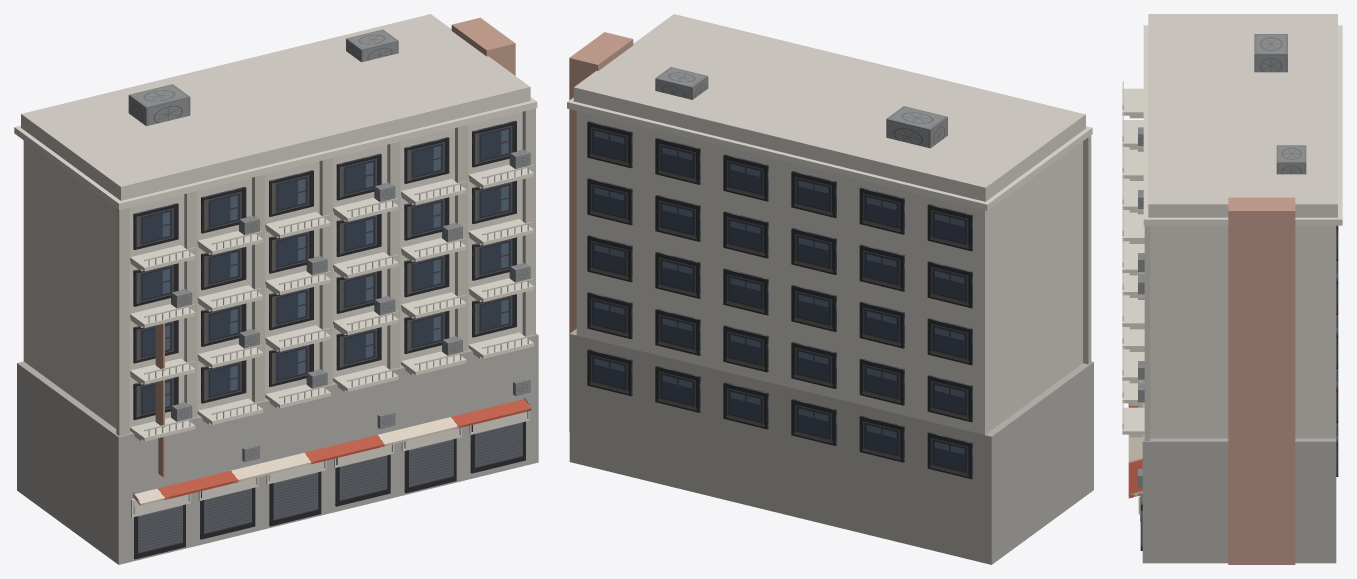
Rendered from street-facade-04.glb.
The picture shows the model from 3 angles, left to right: view 1: azimuth 30°, elevation 25°; view 2: azimuth 150°, elevation 25°; view 3: azimuth 270°, elevation 25°; orthographic projection. The views are drawn at different scales.
Parts seen in each view (by area): view 1: parapet, podium, body, windows, balconies, pilasters, storefront, canopy, cornice, wall-ac, balcony-rails, roof-ac (+2 smaller); view 2: body, podium, windows, parapet, cornice, core-1, roof-ac, pilasters; view 3: parapet, body, core-1, podium, balconies, cornice, roof-ac, pilasters, wall-ac, canopy, windows, balcony-rails.
Part boxes in pixels (bbox=[...]): parapet: bbox=[21, 14, 530, 200]; podium: bbox=[17, 333, 538, 564]; body: bbox=[23, 111, 522, 430]; windows: bbox=[133, 120, 516, 420]; balconies: bbox=[130, 164, 533, 441]; pilasters: bbox=[116, 108, 535, 436]; storefront: bbox=[134, 421, 525, 559]; canopy: bbox=[133, 399, 531, 505]; cornice: bbox=[14, 97, 537, 209]; wall-ac: bbox=[171, 149, 530, 461]; balcony-rails: bbox=[144, 165, 533, 436]; roof-ac: bbox=[128, 29, 398, 126]; body: bbox=[576, 111, 1082, 434]; podium: bbox=[569, 329, 1093, 564]; windows: bbox=[587, 121, 972, 479]; parapet: bbox=[573, 14, 1085, 201]; cornice: bbox=[567, 97, 1092, 210]; core-1: bbox=[569, 32, 633, 431]; roof-ac: bbox=[655, 67, 947, 148]; pilasters: bbox=[1083, 135, 1091, 364]; parapet: bbox=[1148, 14, 1337, 217]; body: bbox=[1150, 225, 1336, 438]; core-1: bbox=[1228, 197, 1295, 564]; podium: bbox=[1142, 403, 1336, 563]; balconies: bbox=[1122, 88, 1144, 437]; cornice: bbox=[1143, 25, 1342, 225]; roof-ac: bbox=[1254, 34, 1306, 174]; pilasters: bbox=[1144, 225, 1150, 440]; wall-ac: bbox=[1138, 127, 1144, 487]; canopy: bbox=[1128, 403, 1142, 498]; windows: bbox=[1336, 225, 1338, 476]; balcony-rails: bbox=[1122, 81, 1123, 429].
Bounding box in the file's own units: 26.1 × 22.2 × 11.85.
9 materials, 4 textured.
